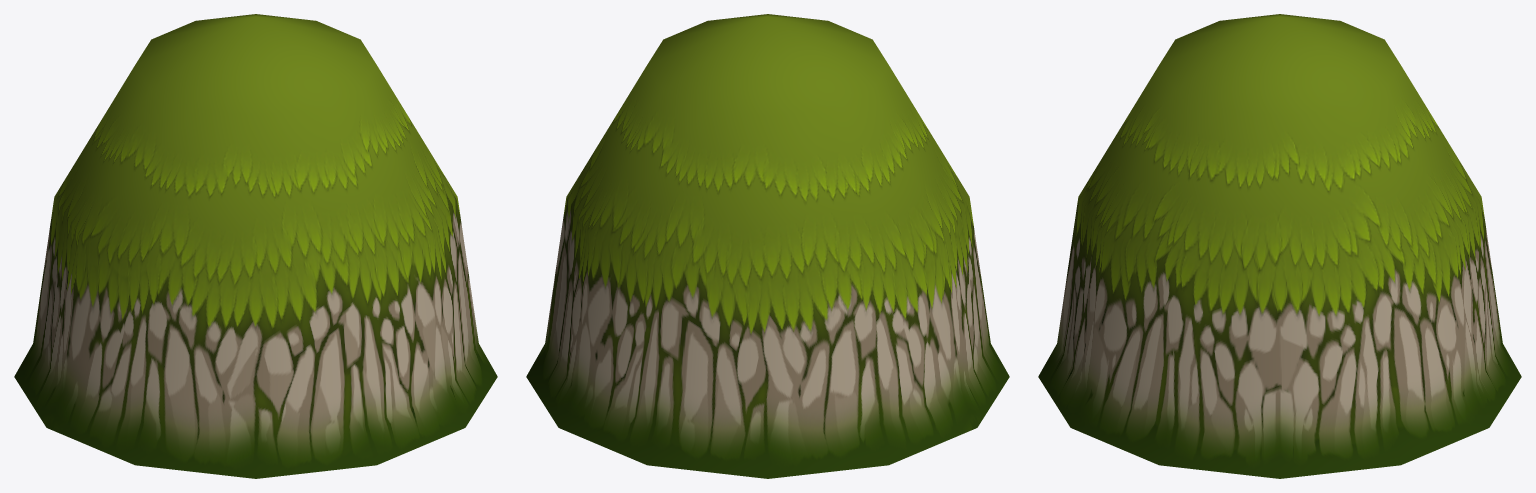
File: Hill6.glb
3 views of the same model, side by side, from view 1: azimuth 30°, elevation 25°; view 2: azimuth 150°, elevation 25°; view 3: azimuth 270°, elevation 25° (orthographic).
Parts seen in each view (by area): view 1: Hill_06; view 2: Hill_06; view 3: Hill_06.
Boxes of the visible parts, left/top/right/bottom form: Hill_06: left=14, top=14, right=497, bottom=478; Hill_06: left=526, top=14, right=1009, bottom=478; Hill_06: left=1038, top=14, right=1521, bottom=478.
Bounding box in the file's own units: 219 × 180 × 219.
Materials: 1 (1 with a texture image).
